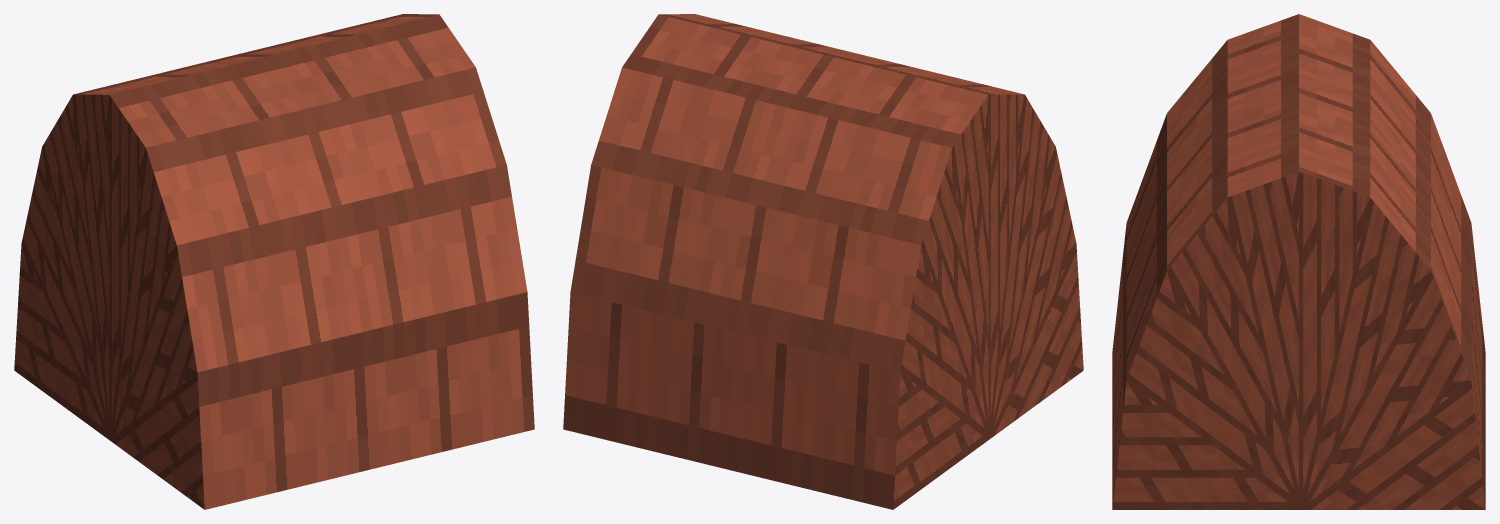
The model's file is vault_brick.glb.
3 renders of one model, left to right at view 1: azimuth 30°, elevation 25°; view 2: azimuth 150°, elevation 25°; view 3: azimuth 270°, elevation 25°, orthographic. The views are drawn at different scales.
Visible parts, largest first — view 1: vault_brick; view 2: vault_brick; view 3: vault_brick.
Boxes of the visible parts, box(x1,y1,x2,y2) form: vault_brick: box(14, 14, 534, 509); vault_brick: box(563, 14, 1083, 509); vault_brick: box(1112, 14, 1485, 509).
Bounding box in the file's own units: 1 × 1 × 1.
1 material, 1 textured.
